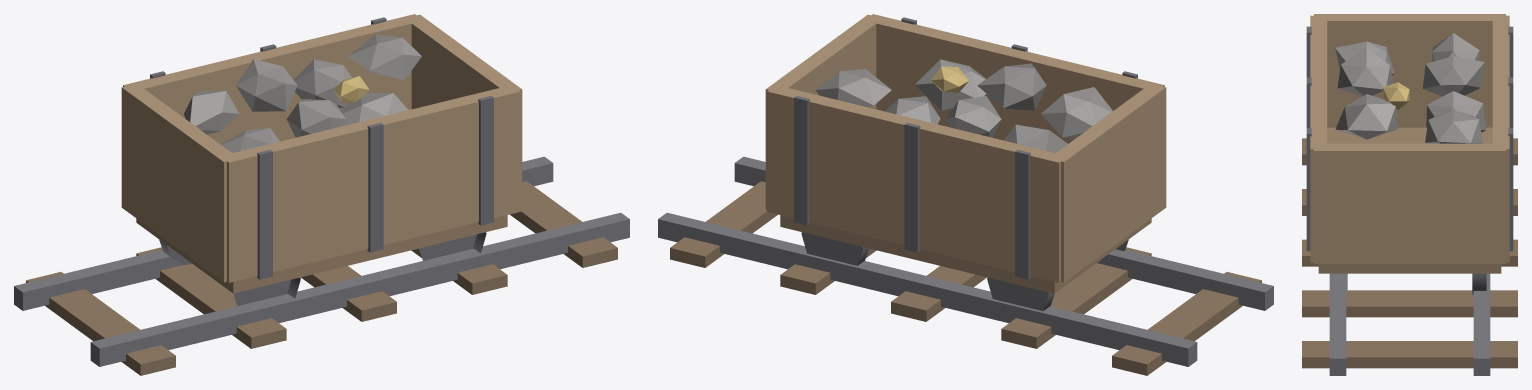
File: minecart_loaded.glb
3 renders of one model, left to right at view 1: azimuth 30°, elevation 25°; view 2: azimuth 150°, elevation 25°; view 3: azimuth 270°, elevation 25°, orthographic. The views are drawn at different scales.
Visible parts, largest first — view 1: minecart_loaded; view 2: minecart_loaded; view 3: minecart_loaded.
Part boxes in pixels (<box>): minecart_loaded: <box>14,14,629,375</box>; minecart_loaded: <box>658,14,1273,375</box>; minecart_loaded: <box>1302,14,1517,375</box>.
Size of the model in its own units: 2.4 by 0.8723 by 0.9.
